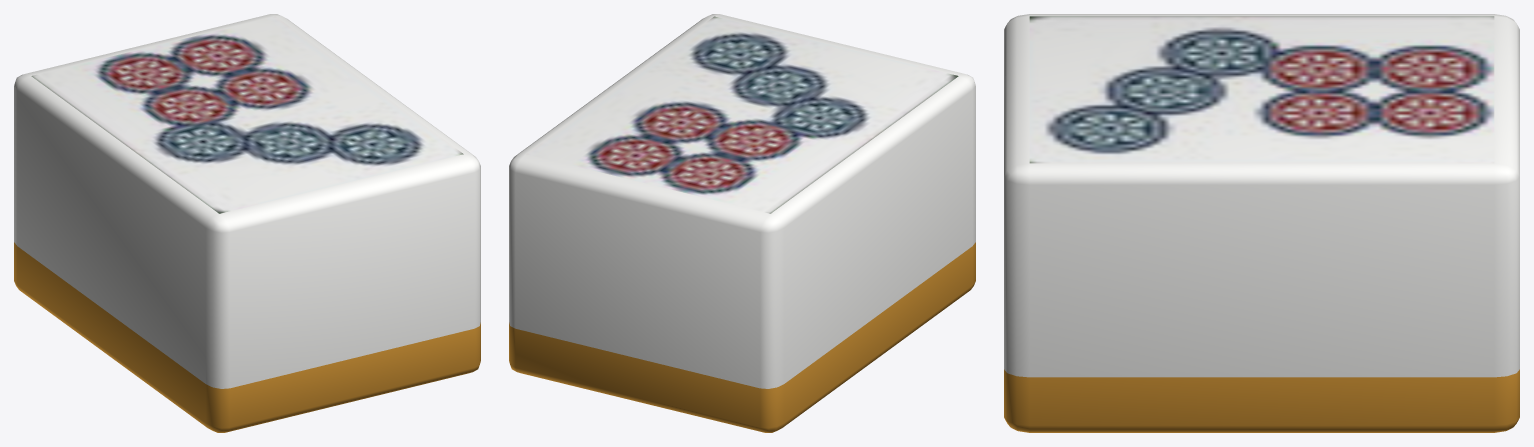
3 renders of one model, left to right at view 1: azimuth 30°, elevation 25°; view 2: azimuth 150°, elevation 25°; view 3: azimuth 270°, elevation 25°, orthographic. The views are drawn at different scales.
Visible parts, largest first — view 1: hai; view 2: hai; view 3: hai.
Boxes of the visible parts, x1,y1,x2,y2 form: hai: (14, 14, 480, 432); hai: (509, 14, 975, 432); hai: (1004, 14, 1519, 432).
Bounding box in the file's own units: 420 × 320 × 560.
3 materials, 1 textured.
